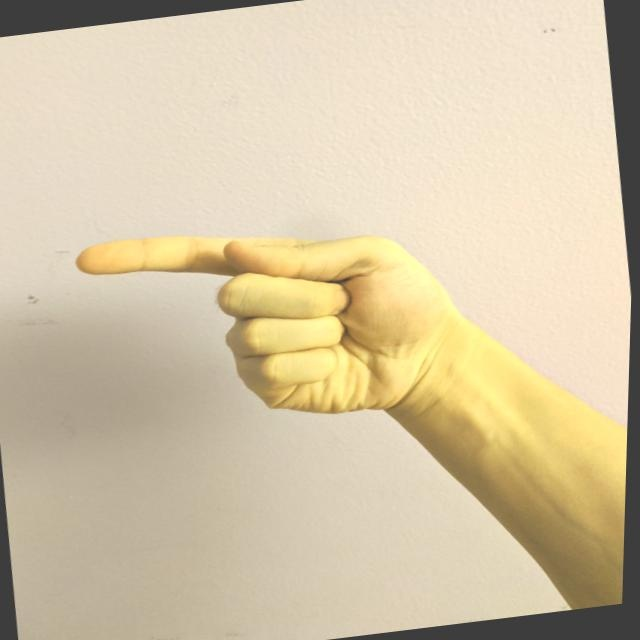G: (66, 193, 481, 450)
